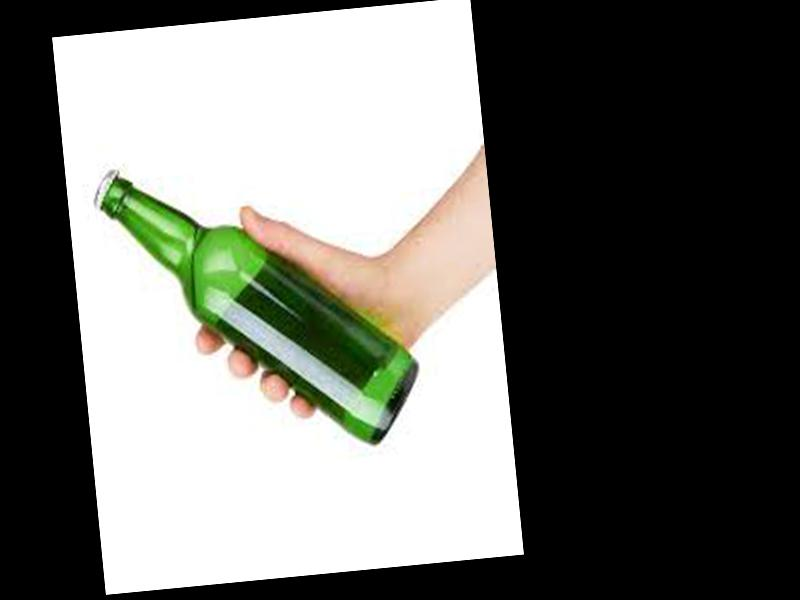Beer: (95, 141, 430, 466)
